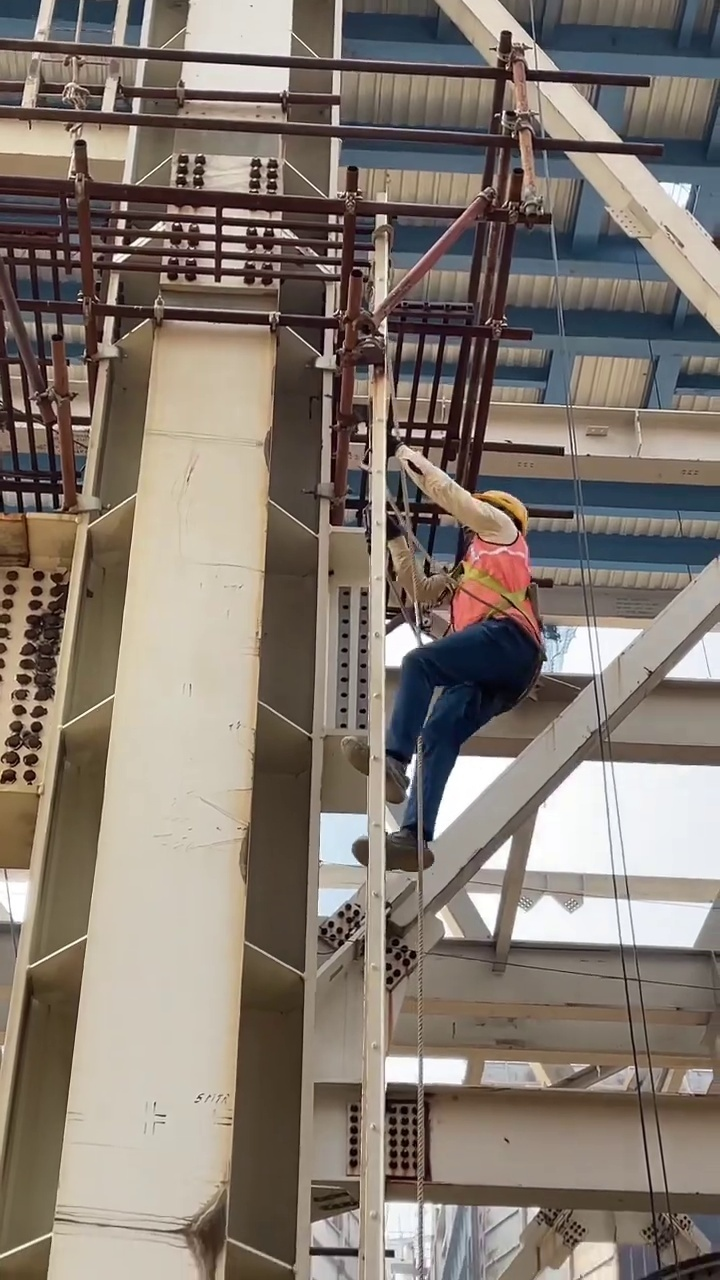Helmet: (478, 490, 529, 526)
Person: (340, 489, 546, 863)
Safety_Harness: (429, 535, 546, 665)
Safety_shoes: (340, 736, 409, 806), (356, 827, 436, 869)
